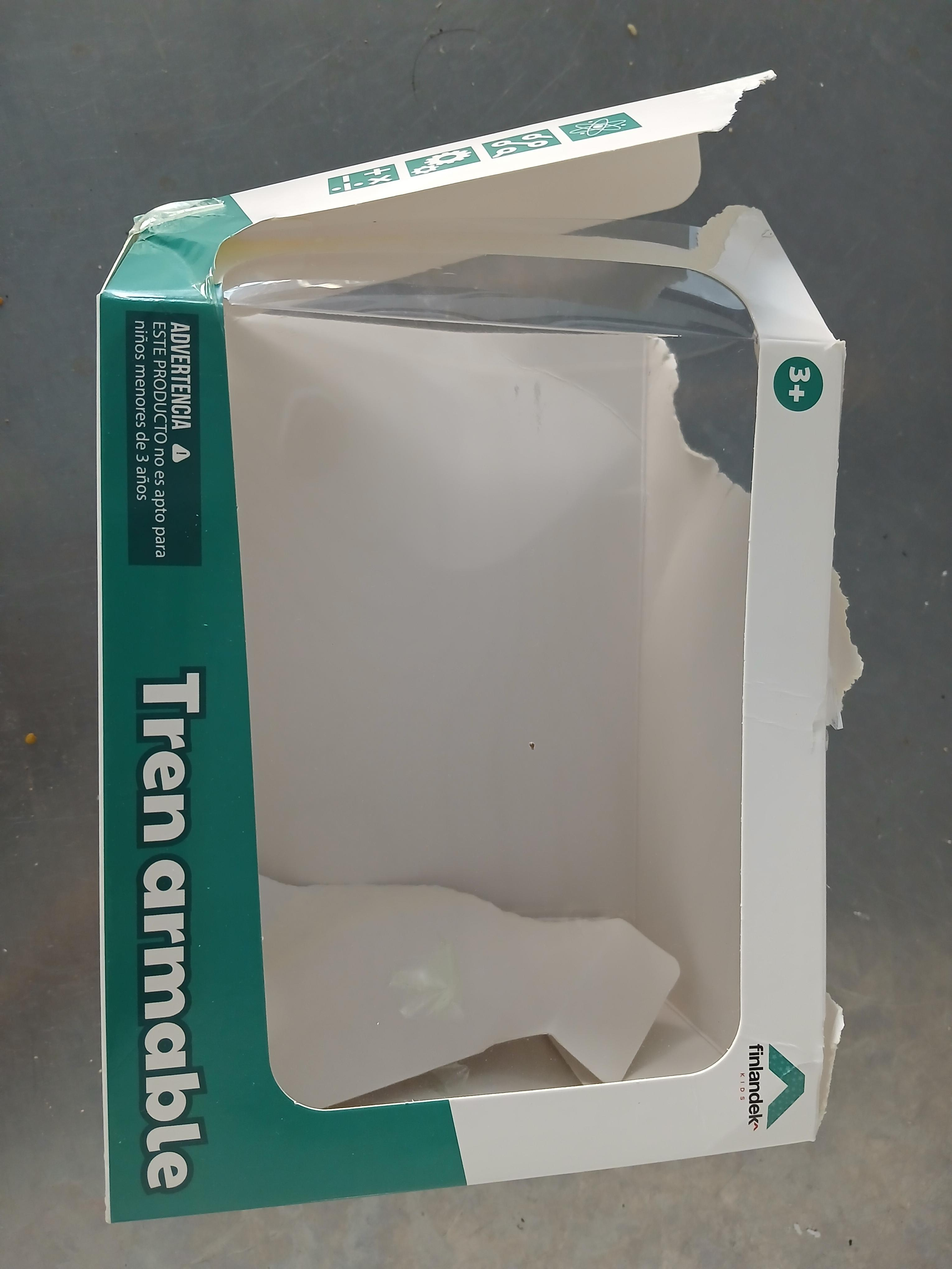Carton: (96, 67, 850, 1227)
